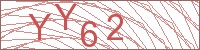2: (105, 12, 128, 42)
6: (80, 19, 99, 48)
Y: (51, 2, 78, 31), (27, 13, 52, 42)
